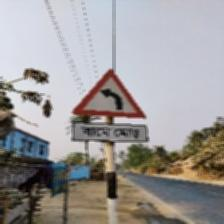Left-Turn: (70, 69, 149, 144)
